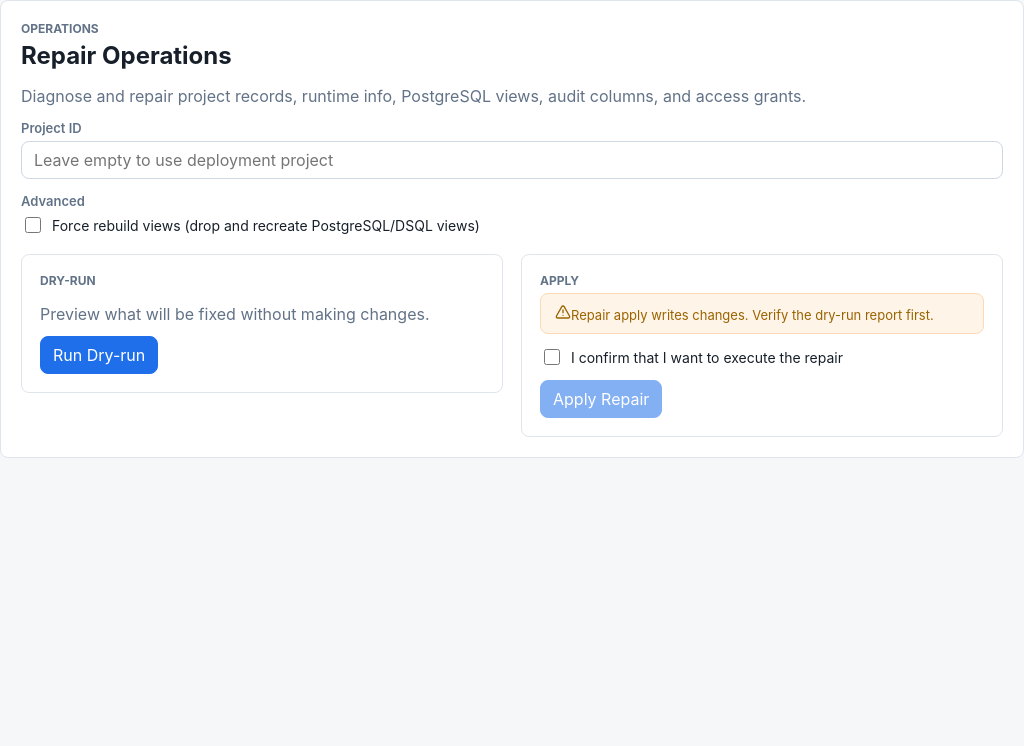
Test: RepairWorkspace › resets confirm checkbox after successful apply
What coordinates should you click on to do the following:
click the checkbox labelled "I confirm that I want to execute the repair"
I would click on:
 (552, 357)
Its box is [544,349,560,365].
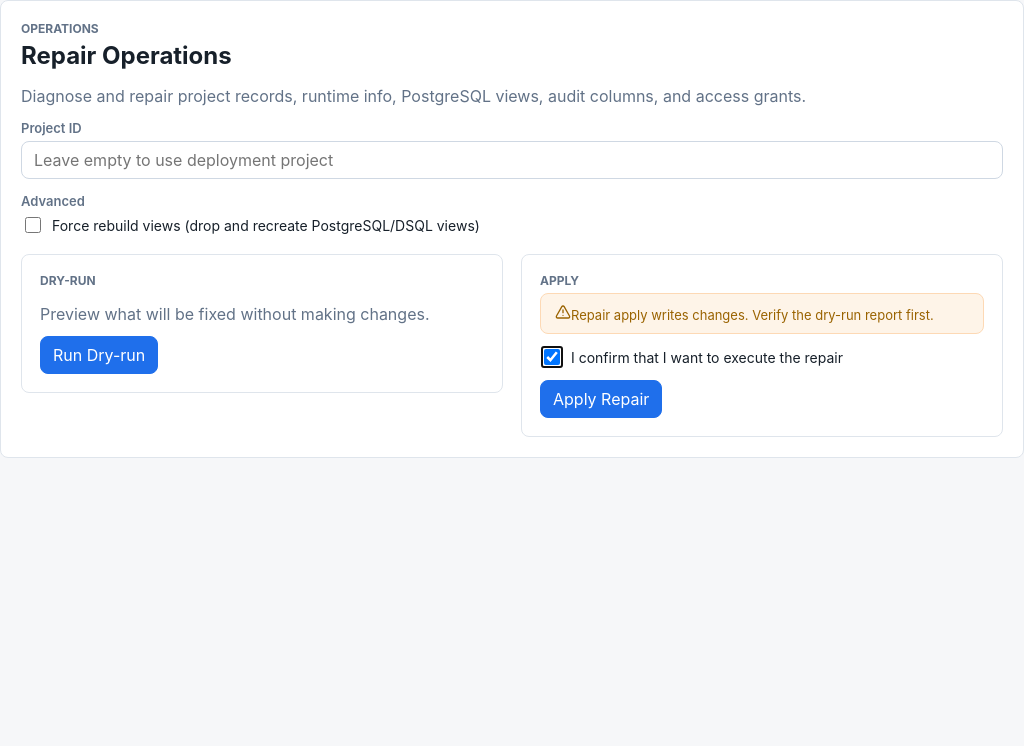
What coordinates should you click on to do the following:
click the button "Apply Repair"
I would click on:
 (601, 399)
Its box is [540,380,662,418].
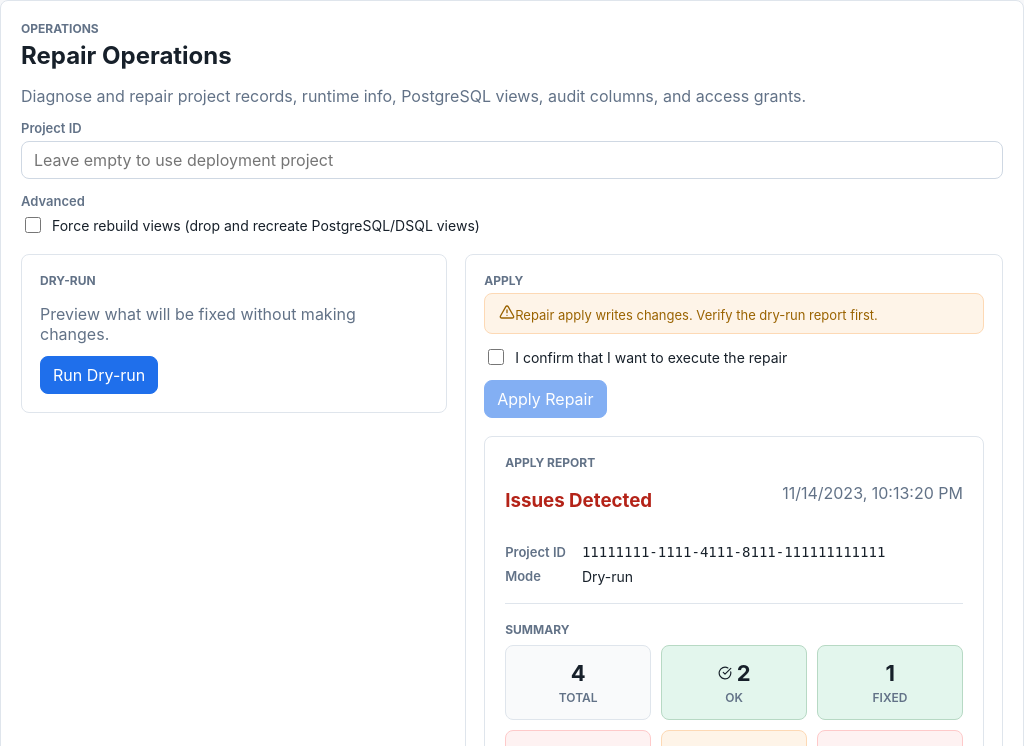
Check: the checkbox labelled "I confirm that I want to execute the repair" is not checked, box [488,349,504,365]
Check: the text "Apply Report" is shown, box [505,455,595,470]
